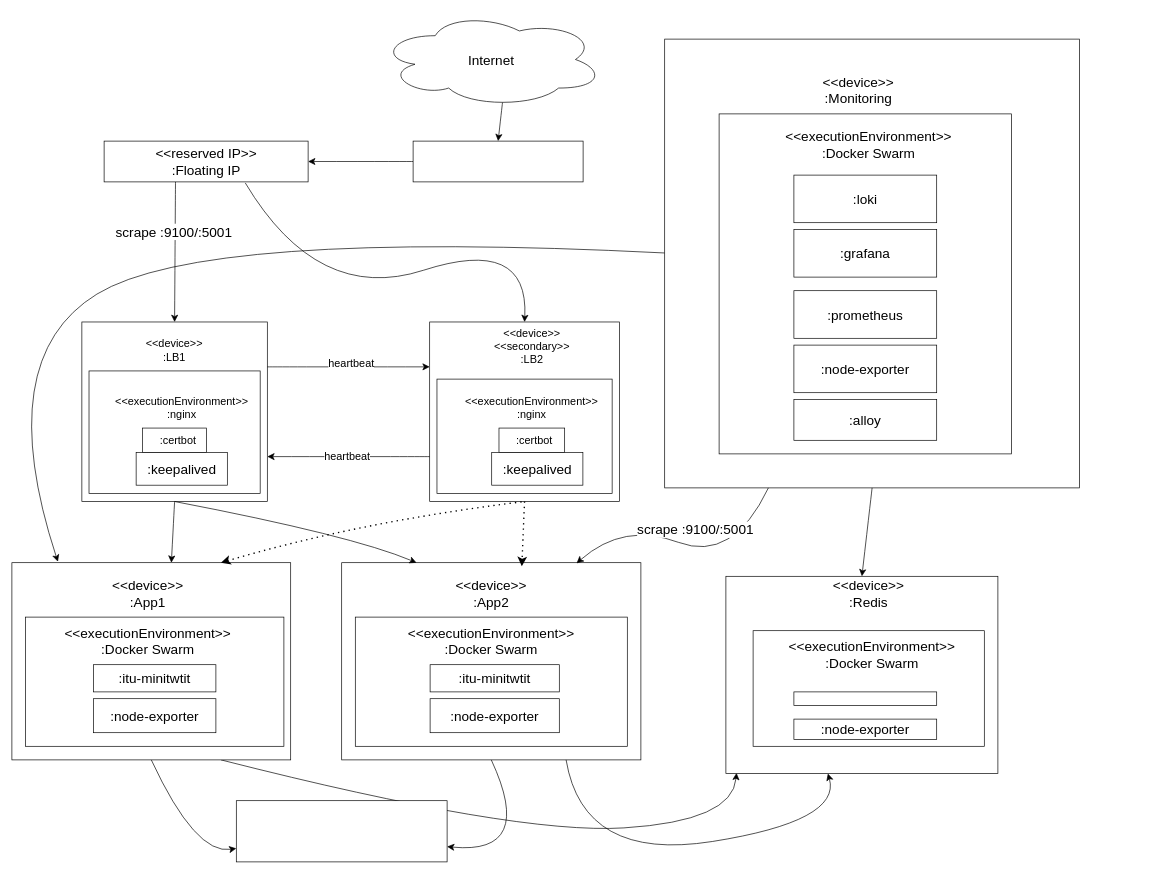
Some shapes in this 1166 by 874 pixel diagram are drawn without their labels. The shapes that lost their labels are listed below. From the top down, each one's centre as x and y in pixels, then its label:
pixel 497 161: DuckDNS
pixel 865 698: :Redis
pixel 341 831: <<device>> :DO PostgreSQL
